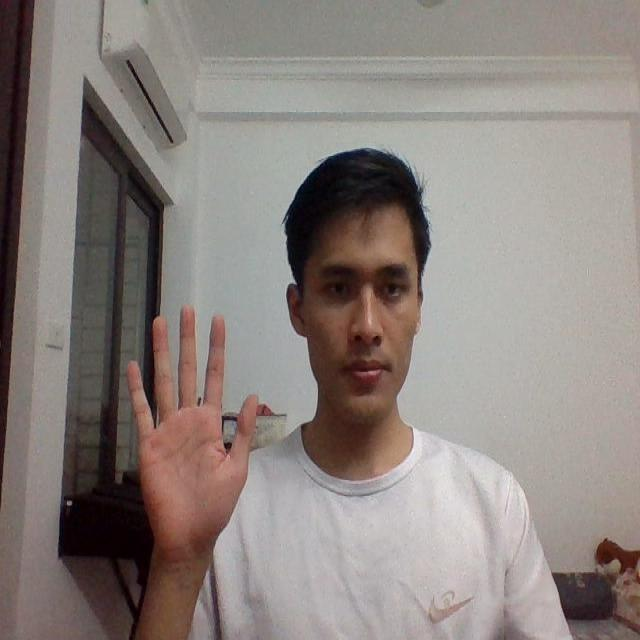hello: (123, 301, 264, 557)
